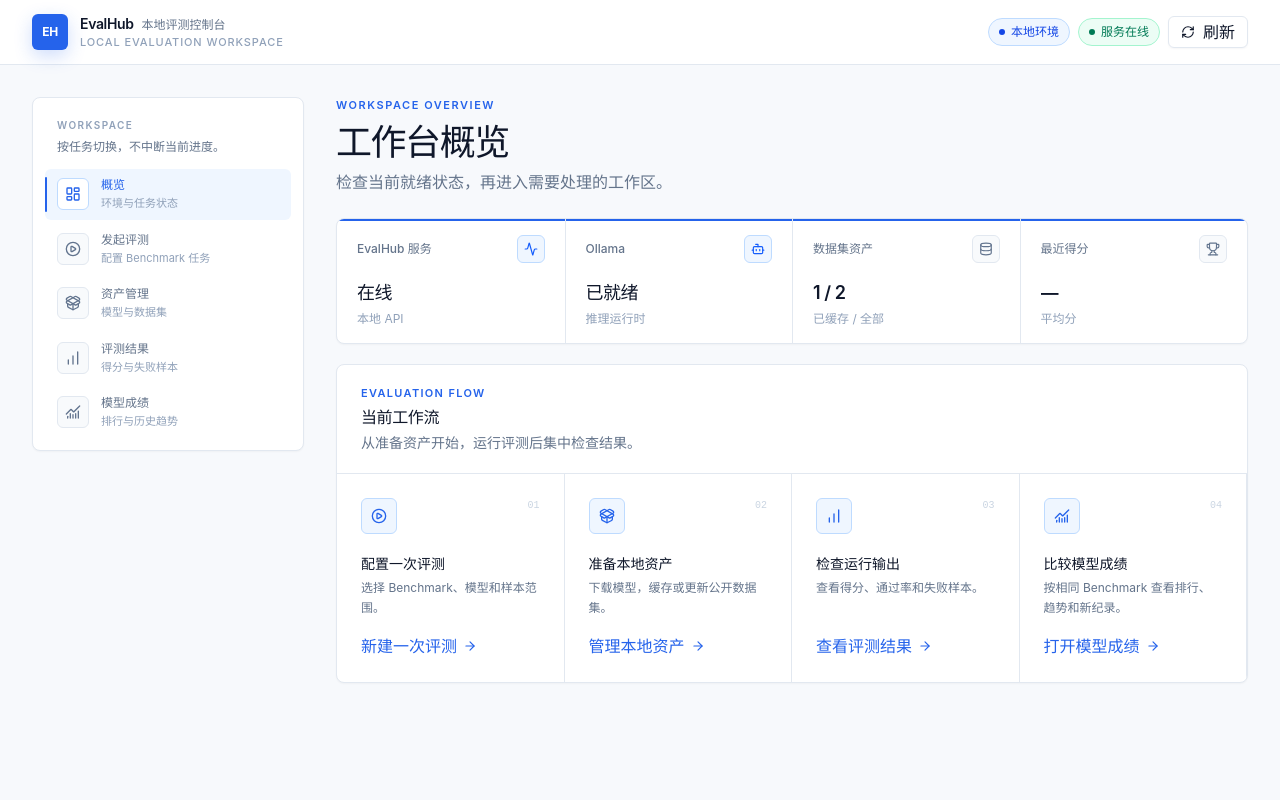
it: EvalHub console › shows evaluation failures inside the result module
Click the button with aria-label "打开发起评测页面" at (168, 249), box [45,224,291,274]
(page scrolled)
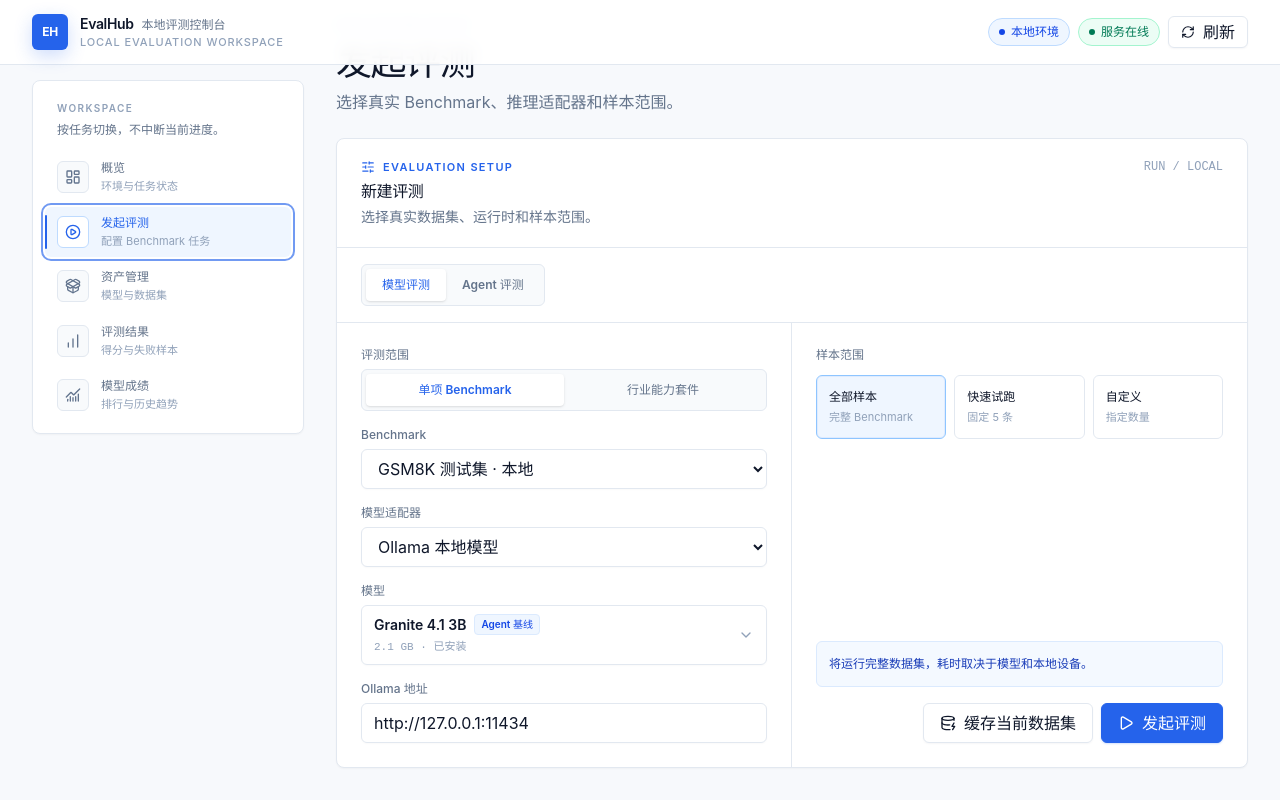
Expected: the dropdown named "数据集" is shown, [361,449,767,489]
Click the button "发起评测" at (1162, 722), box [1101,702,1223,742]
(page scrolled)
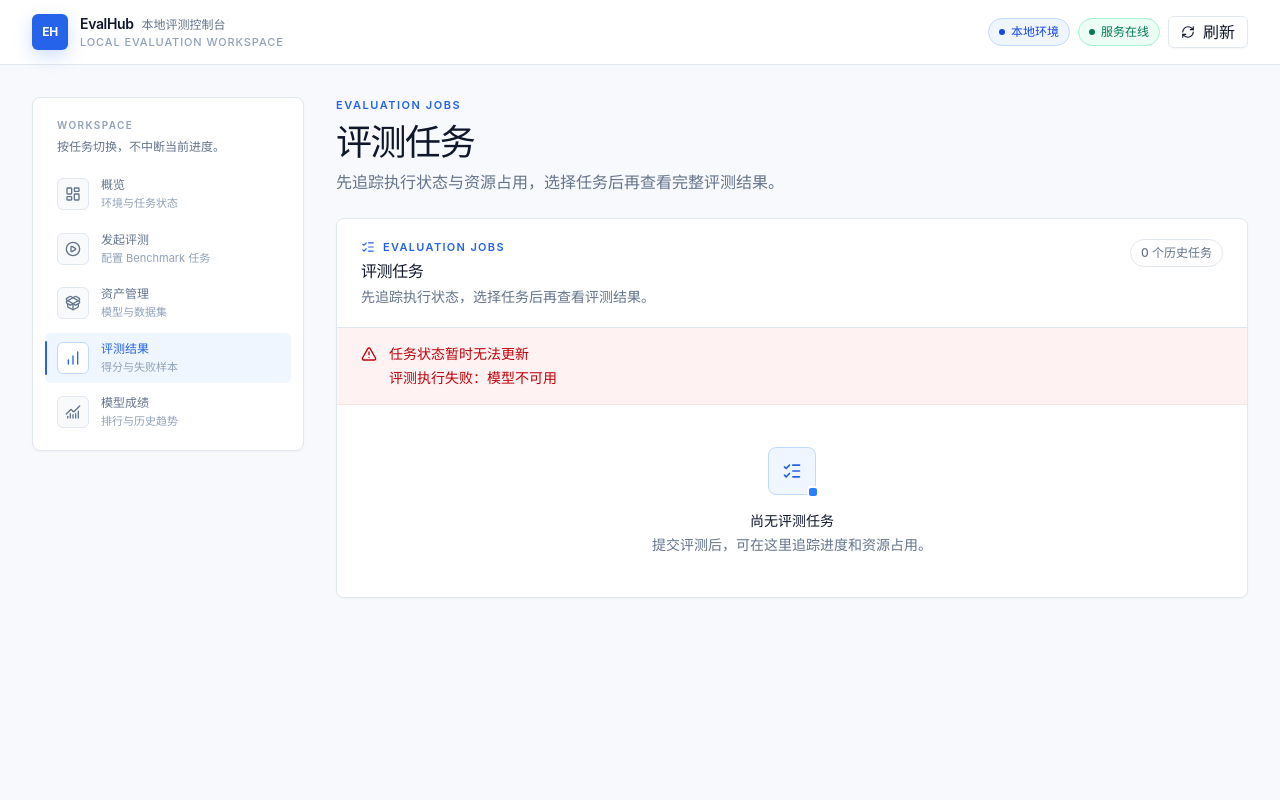
Expected: the message shows "评测执行失败：模型不可用", [389,369,557,386]
